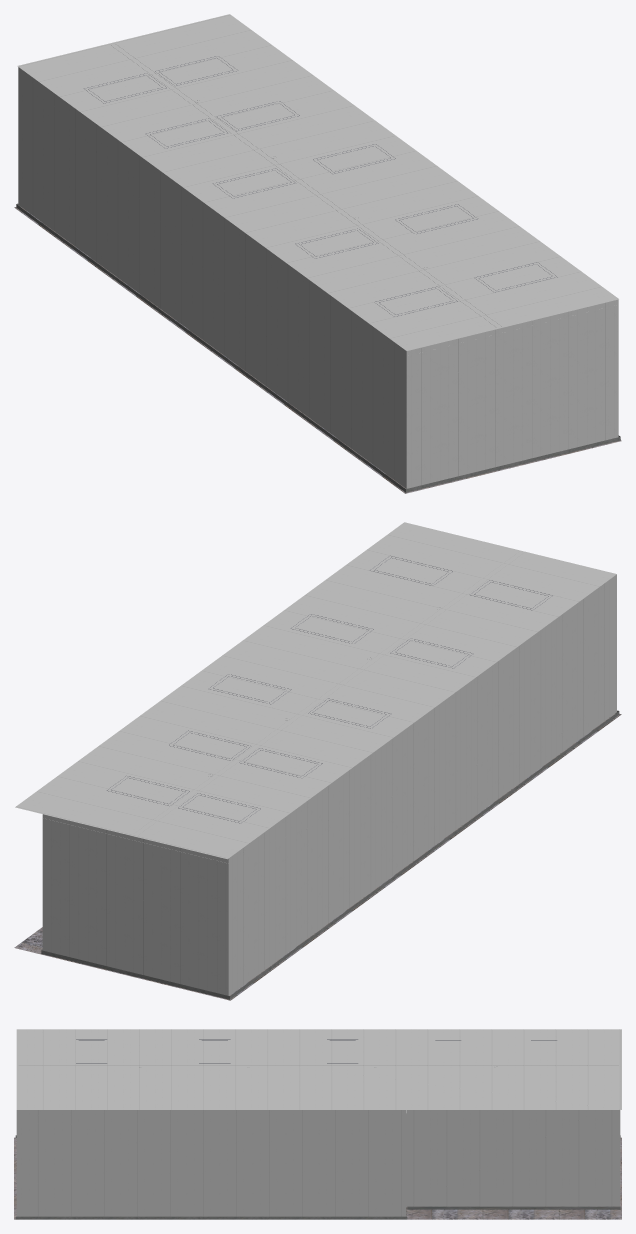
The model's file is relleyNa2.fbx.
3 views of the same model, one above another, from view 1: azimuth 30°, elevation 25°; view 2: azimuth 150°, elevation 25°; view 3: azimuth 270°, elevation 25° (orthographic). The views are drawn at different scales.
Visible parts, largest first — view 1: walls.016, walls.017, walls.018; view 2: walls.016, walls.017, walls.018; view 3: walls.016, walls.017, walls.018, walls.020.
Boxes of the visible parts, <box> form: walls.016: <box>16,67,620,492</box>; walls.017: <box>17,14,618,350</box>; walls.018: <box>14,206,621,493</box>; walls.016: <box>41,574,619,999</box>; walls.017: <box>15,522,616,859</box>; walls.018: <box>14,713,621,1000</box>; walls.016: <box>15,1110,620,1219</box>; walls.017: <box>16,1029,621,1109</box>; walls.018: <box>14,1137,621,1219</box>; walls.020: <box>19,1065,618,1112</box>.
Bounding box in the file's own units: 447 × 278 × 1399.
